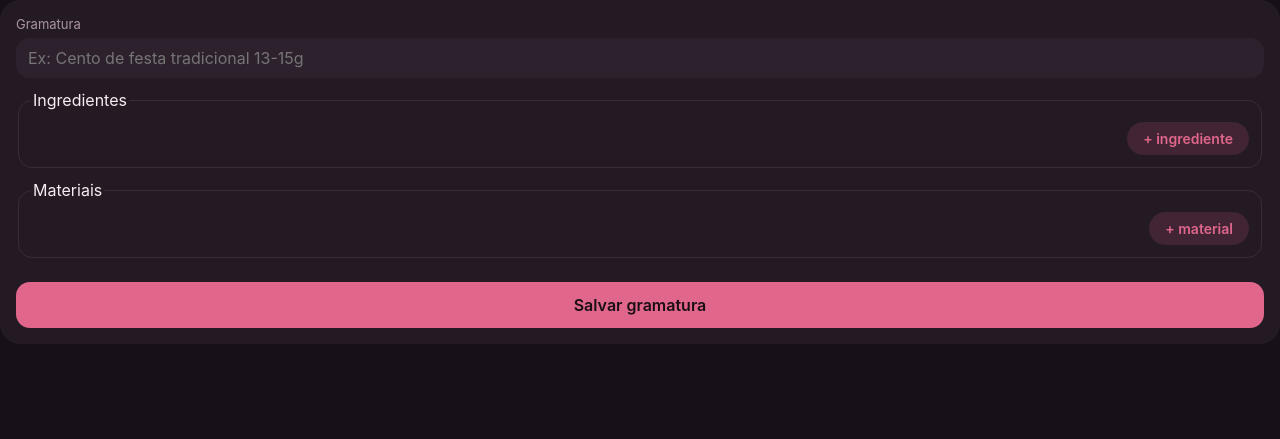
RecipeSizeVariantEditor › does not preselect an Ingredient or Material, and shows a dynamic unit once one is chosen
Click the button "+ ingrediente" at (1188, 138), box [1127,122,1249,155]
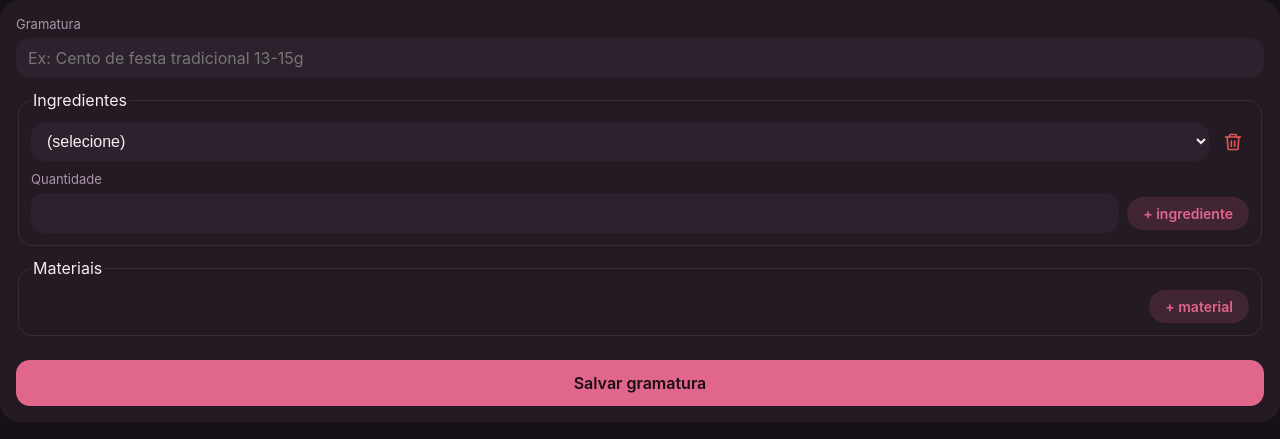
Expected: the dropdown named "Ingrediente" shows "(selecione)"
Expected: the text "Quantidade" is shown, [31,171,102,187]
Select "Leite condensado" in the dropdown named "Ingrediente" at (620, 142), box [31,122,1209,161]
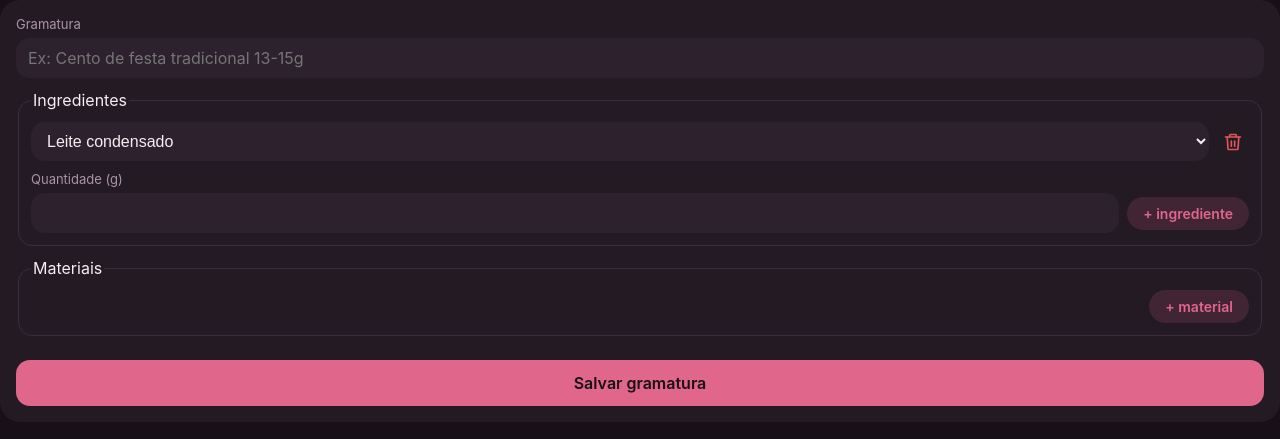
Expected: the text "Quantidade (g)" is shown, [31,171,123,187]
